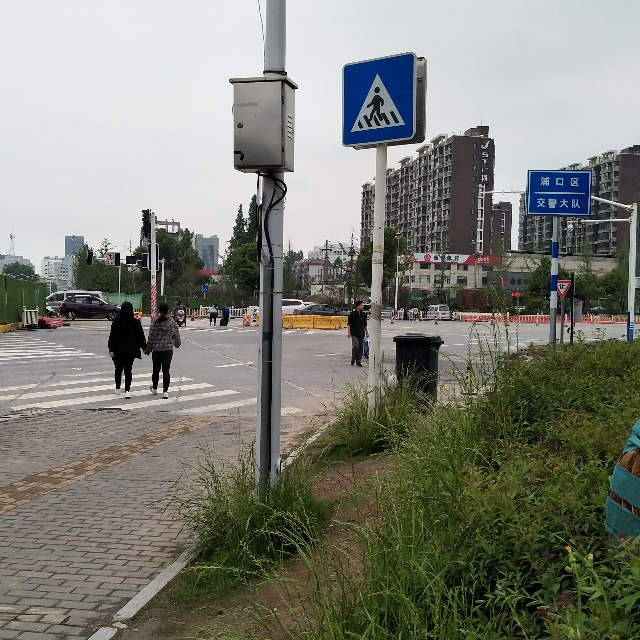crosswalk: (340, 65, 415, 141)
